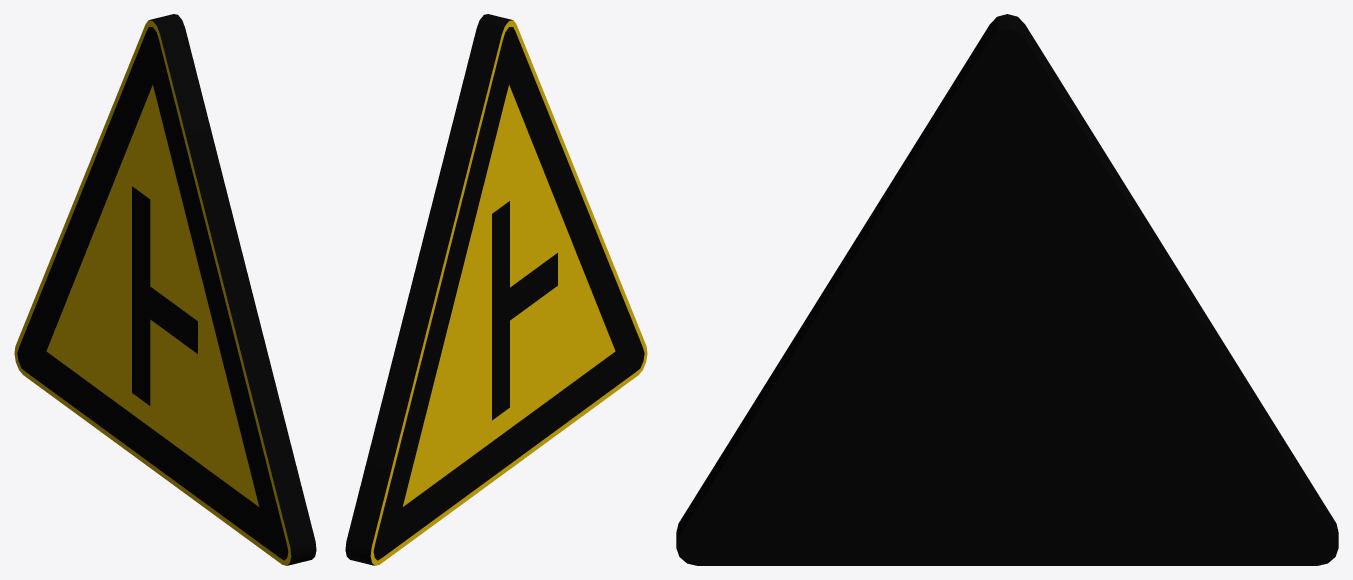
Rendered from T_Crossing-3.fbx.
3 renders of one model, left to right at view 1: azimuth 30°, elevation 25°; view 2: azimuth 150°, elevation 25°; view 3: azimuth 270°, elevation 25°, orthographic. The views are drawn at different scales.
Parts seen in each view (by area): view 1: T_Crossing_3; view 2: T_Crossing_3; view 3: T_Crossing_3.
Boxes of the visible parts, x1=… form: T_Crossing_3: x1=14, y1=14, x2=316, y2=565; T_Crossing_3: x1=345, y1=14, x2=647, y2=565; T_Crossing_3: x1=676, y1=14, x2=1338, y2=565.
Size of the model in its own units: 0.0643 by 1.02 by 1.14.
